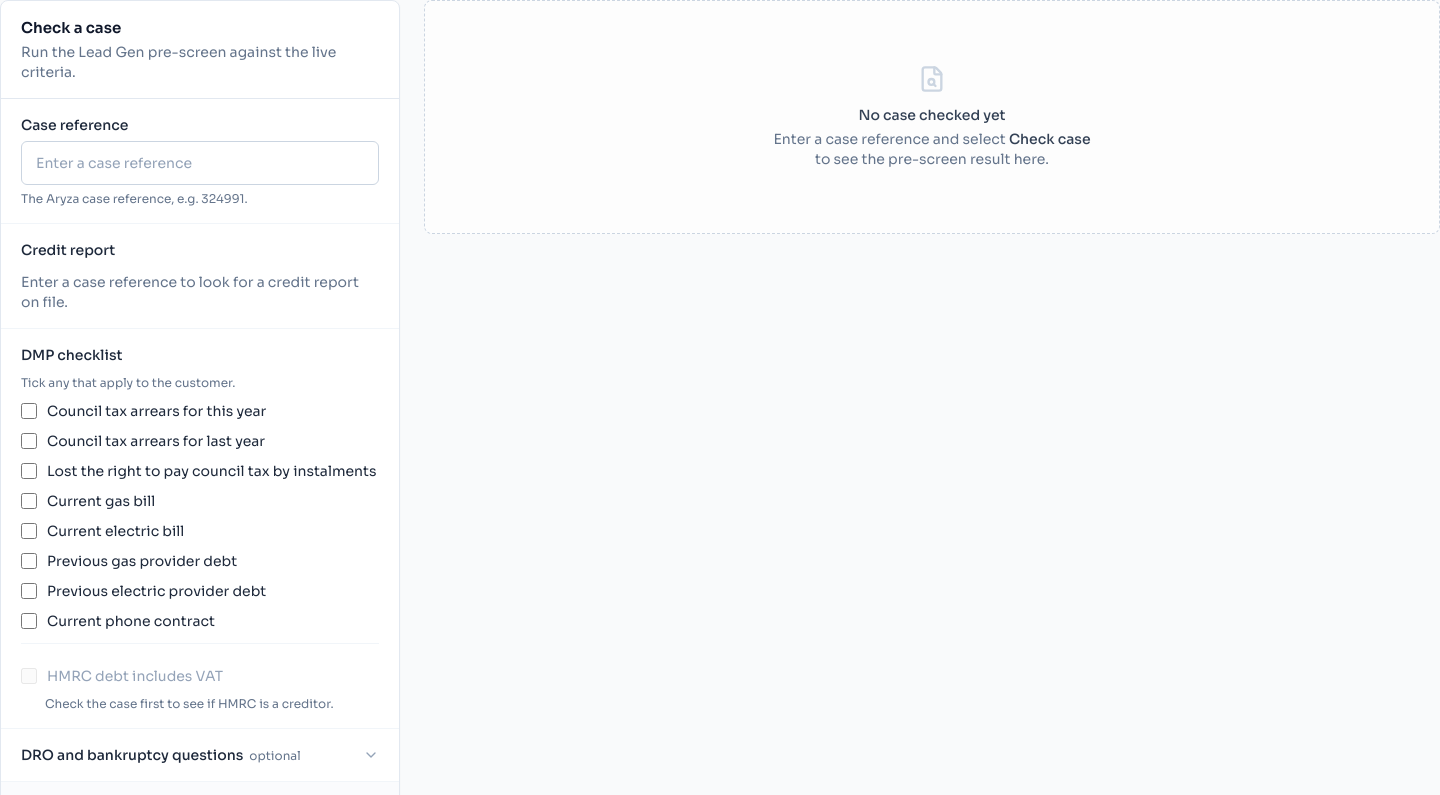
Test: LeadGenCheckPanel › offers an upload when no usable credit report exists
The width and height of the screenshot is (1440, 795).
Type "123456" into the field labelled "Case reference". click: x=200, y=162
box: x1=21 y1=140 x2=379 y2=184
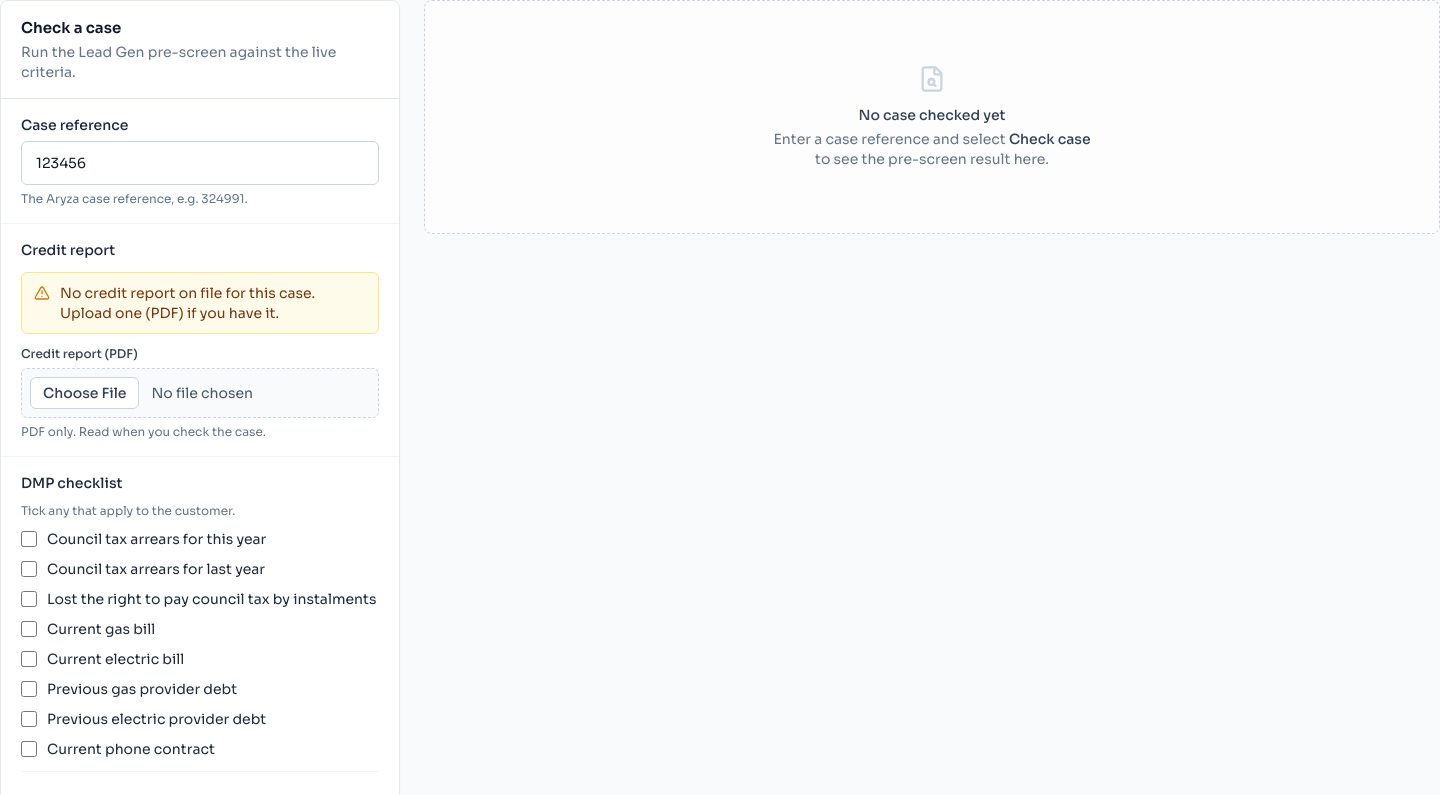
Now the file field labelled "Credit report (PDF)" is shown, box x1=21 y1=368 x2=379 y2=418
Now the text "No credit report on file" is shown, box x1=60 y1=284 x2=315 y2=322
